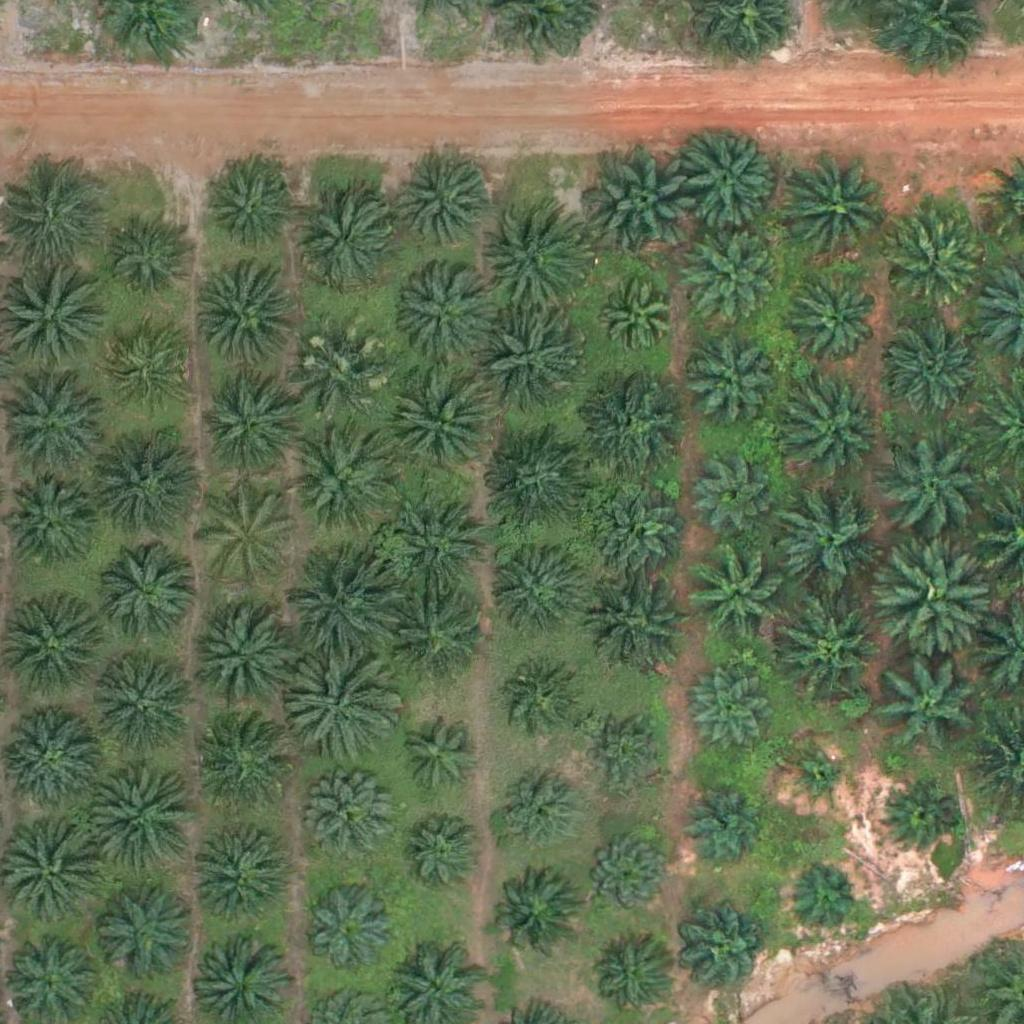Kelapa_Sawit: (778, 373, 891, 487), (87, 758, 200, 871), (573, 369, 686, 482), (884, 539, 997, 652), (93, 648, 205, 762), (286, 647, 398, 761), (286, 555, 398, 669), (591, 149, 703, 263), (883, 433, 995, 547), (97, 430, 209, 543), (196, 597, 308, 710), (480, 200, 592, 313), (477, 308, 589, 421), (485, 421, 597, 534), (777, 483, 889, 596), (776, 585, 888, 698), (879, 648, 991, 761), (1, 375, 101, 476), (4, 705, 104, 806), (3, 830, 103, 931), (96, 882, 196, 983), (103, 541, 203, 642), (197, 263, 297, 364), (194, 487, 294, 588), (189, 717, 289, 818), (193, 832, 293, 933), (294, 187, 394, 288), (291, 335, 391, 436), (395, 150, 495, 251), (396, 379, 496, 480), (391, 495, 491, 596), (389, 587, 489, 688), (487, 538, 587, 639), (676, 123, 776, 224), (679, 229, 779, 330), (688, 542, 788, 643), (780, 160, 880, 261), (887, 205, 987, 306), (196, 378, 296, 478), (302, 879, 402, 979), (292, 434, 392, 534), (392, 269, 492, 369), (589, 565, 689, 665), (888, 319, 988, 419), (393, 810, 481, 899), (499, 664, 587, 752), (105, 323, 193, 411), (210, 166, 298, 254), (686, 329, 774, 417), (694, 450, 782, 538), (686, 670, 774, 758), (683, 909, 771, 997), (583, 829, 670, 917), (583, 708, 670, 796), (390, 717, 477, 805), (493, 768, 580, 856), (489, 868, 576, 956), (103, 215, 190, 303), (309, 780, 396, 868), (594, 275, 681, 363), (595, 492, 682, 580), (681, 776, 768, 864), (795, 282, 882, 370), (881, 777, 956, 853), (787, 860, 862, 935), (788, 749, 851, 812)
